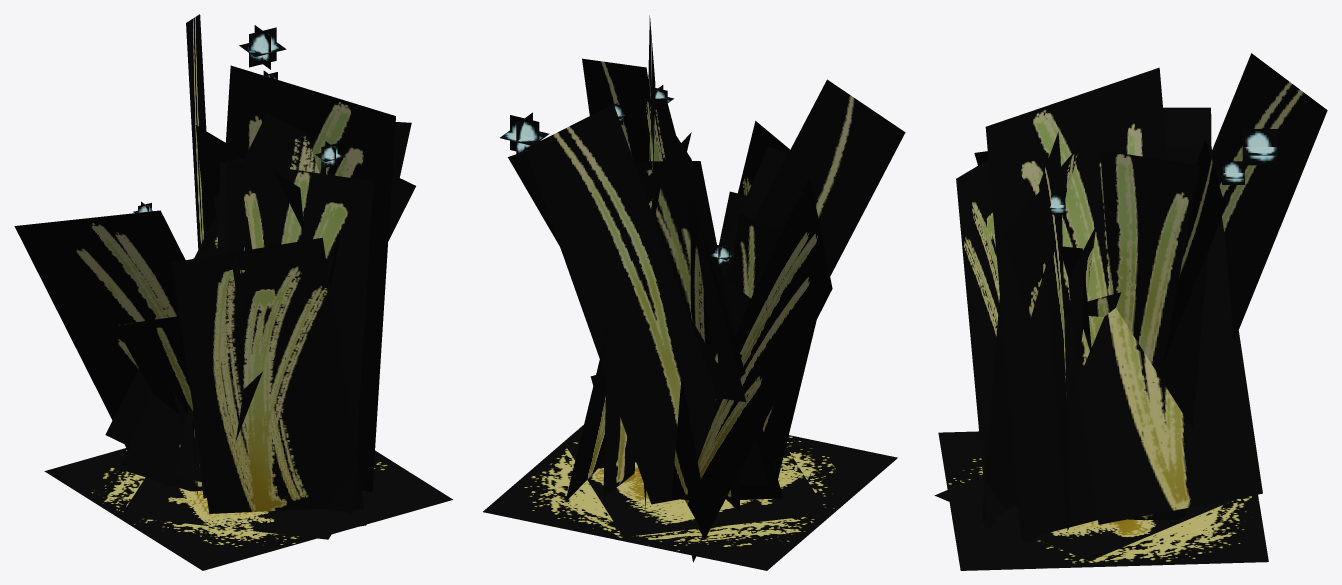
Rendered from GRASS1.fbx.
3 views of the same model, side by side, from view 1: azimuth 30°, elevation 25°; view 2: azimuth 150°, elevation 25°; view 3: azimuth 270°, elevation 25° (orthographic). The views are drawn at different scales.
Visible parts, largest first — view 1: grassF2_BAKED; view 2: grassF2_BAKED; view 3: grassF2_BAKED.
Boxes of the visible parts, x1,y1,x2,y2 form: grassF2_BAKED: (14,14,452,570); grassF2_BAKED: (483,15,905,570); grassF2_BAKED: (934,53,1327,570).
Size of the model in its own units: 46.62 by 61.71 by 45.14.
